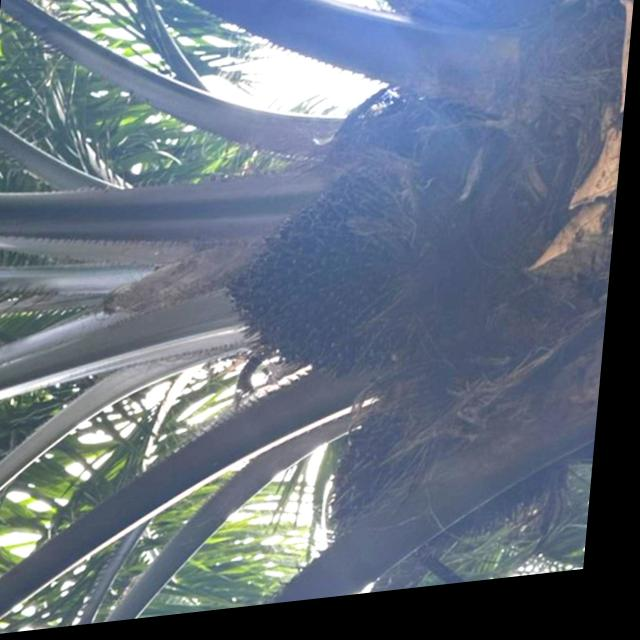unripe: (218, 167, 431, 406)
